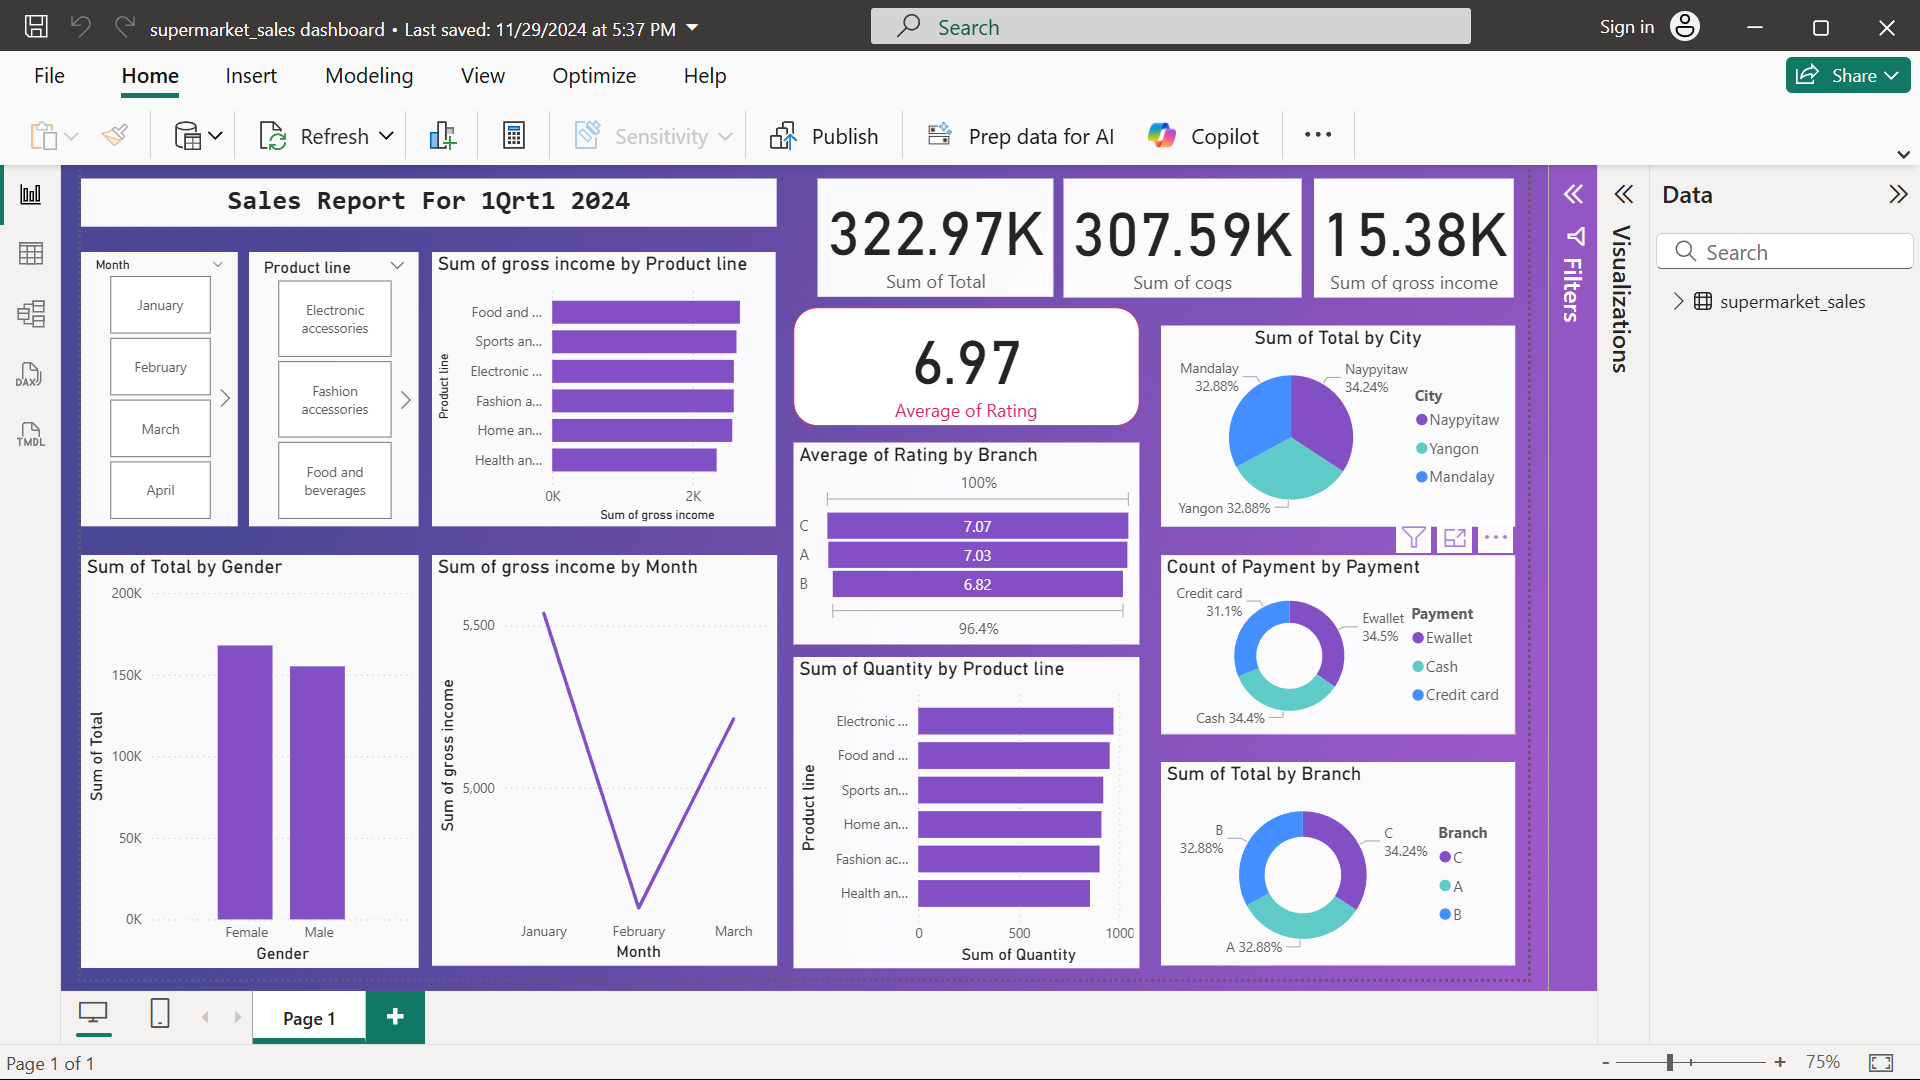

The page's visual inventory and layout, read from the dashboard file:
{"tool":"powerbi","page":{"name":"Page 1","canvas":[1280,720],"ordinal":0},"visuals":[{"type":"lineChart","fields":{"Category":["supermarket_sales.Date.Variation.Date Hierarchy.Year","supermarket_sales.Date.Variation.Date Hierarchy.Quarter","supermarket_sales.Date.Variation.Date Hierarchy.Month","supermarket_sales.Date.Variation.Date Hierarchy.Day"],"Y":["Sum(supermarket_sales.gross income)"]},"box":[310,345,305,363.3],"z":0},{"type":"card","fields":{"Values":["Sum(supermarket_sales.Total)"]},"box":[651.1,12.1,209,104.5],"z":1000},{"type":"card","fields":{"Values":["Sum(supermarket_sales.cogs)"]},"box":[869.6,11.7,210.5,105.2],"z":2000},{"type":"card","fields":{"Values":["Sum(supermarket_sales.gross income)"]},"box":[1090.3,11.7,176.8,105.2],"z":3000},{"type":"clusteredBarChart","fields":{"Category":["supermarket_sales.Product line"],"Y":["Sum(supermarket_sales.gross income)"]},"box":[310,77.1,304.3,242.9],"z":4000},{"type":"pieChart","fields":{"Y":["Sum(supermarket_sales.Total)"],"Category":["supermarket_sales.City"]},"box":[954.9,141.5,313.4,178],"z":5000},{"type":"donutChart","fields":{"Category":["supermarket_sales.Branch"],"Y":["Sum(supermarket_sales.Total)"]},"box":[955,528.3,313.3,180],"z":6000},{"type":"columnChart","fields":{"Y":["Sum(supermarket_sales.Total)"],"Category":["supermarket_sales.Gender"]},"box":[0,345,298.3,365],"z":7000},{"type":"donutChart","fields":{"Y":["CountNonNull(supermarket_sales.Payment)"],"Category":["supermarket_sales.Payment"]},"box":[955,345,313.3,158.3],"z":8000},{"type":"clusteredBarChart","fields":{"Category":["supermarket_sales.Product line"],"Y":["Sum(supermarket_sales.Quantity)"]},"box":[629.9,434.6,305.9,275.6],"z":9000},{"type":"slicer","fields":{"Values":["supermarket_sales.Date.Variation.Date Hierarchy.Month"]},"box":[0,77.1,138.6,242.9],"z":10000},{"type":"slicer","fields":{"Values":["supermarket_sales.Product line"]},"box":[148.6,77.1,150,242.9],"z":11000},{"type":"funnel","fields":{"Category":["supermarket_sales.Branch"],"Y":["Avg(supermarket_sales.Rating)"]},"box":[629.9,245.3,305.9,178.7],"z":12000},{"type":"textbox","box":[0,11.7,615.3,42.4],"z":13000},{"type":"card","fields":{"Values":["Avg(supermarket_sales.Rating)"]},"box":[629.9,125.7,305.9,104.5],"z":14000}]}

Visuals, with their boxes on the page's 1280x720 design canvas (x1, y1, x2, y2). These are canvas units, not pixel positions in the 1920x1080 screenshot, which may show the page scaled, cropped or inside an application window:
lineChart - supermarket_sales.Date.Variation.Date Hierarchy.Year x supermarket_sales.Date.Variation.Date Hierarchy.Quarter: 310, 345, 615, 708
card - Sum(supermarket_sales.Total): 651, 12, 860, 117
card - Sum(supermarket_sales.cogs): 870, 12, 1080, 117
card - Sum(supermarket_sales.gross income): 1090, 12, 1267, 117
clusteredBarChart - supermarket_sales.Product line x Sum(supermarket_sales.gross income): 310, 77, 614, 320
pieChart - Sum(supermarket_sales.Total) x supermarket_sales.City: 955, 142, 1268, 320
donutChart - supermarket_sales.Branch x Sum(supermarket_sales.Total): 955, 528, 1268, 708
columnChart - Sum(supermarket_sales.Total) x supermarket_sales.Gender: 0, 345, 298, 710
donutChart - CountNonNull(supermarket_sales.Payment) x supermarket_sales.Payment: 955, 345, 1268, 503
clusteredBarChart - supermarket_sales.Product line x Sum(supermarket_sales.Quantity): 630, 435, 936, 710
slicer - supermarket_sales.Date.Variation.Date Hierarchy.Month: 0, 77, 139, 320
slicer - supermarket_sales.Product line: 149, 77, 299, 320
funnel - supermarket_sales.Branch x Avg(supermarket_sales.Rating): 630, 245, 936, 424
textbox: 0, 12, 615, 54
card - Avg(supermarket_sales.Rating): 630, 126, 936, 230
